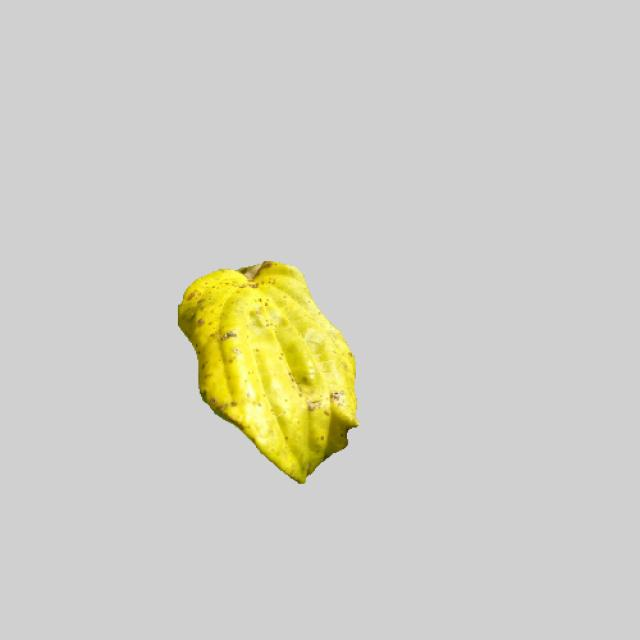yellow-mottle-virus: (175, 258, 358, 482)
